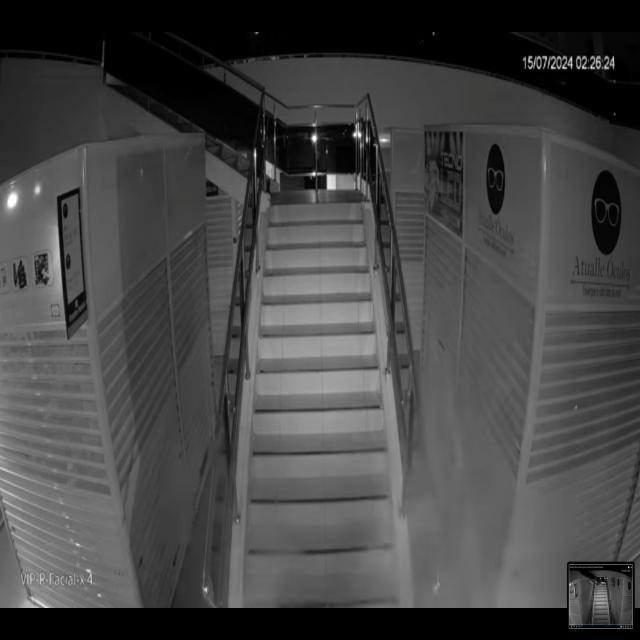Atencao: (395, 416, 553, 604)
